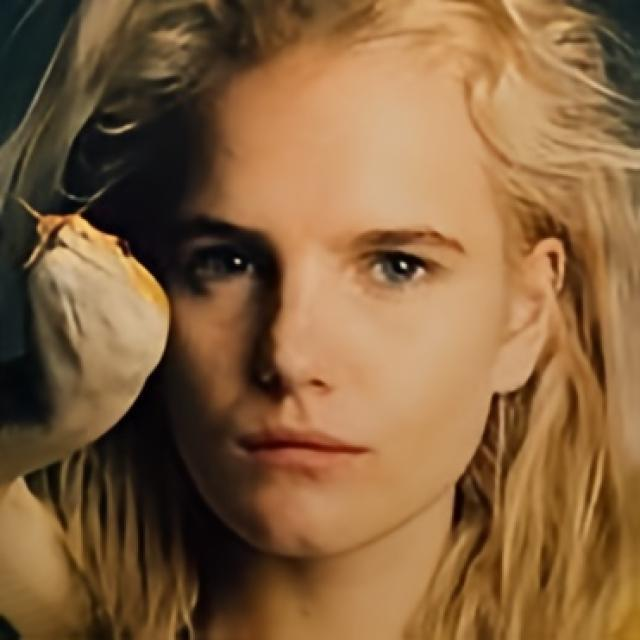neutral: (145, 47, 504, 553)
